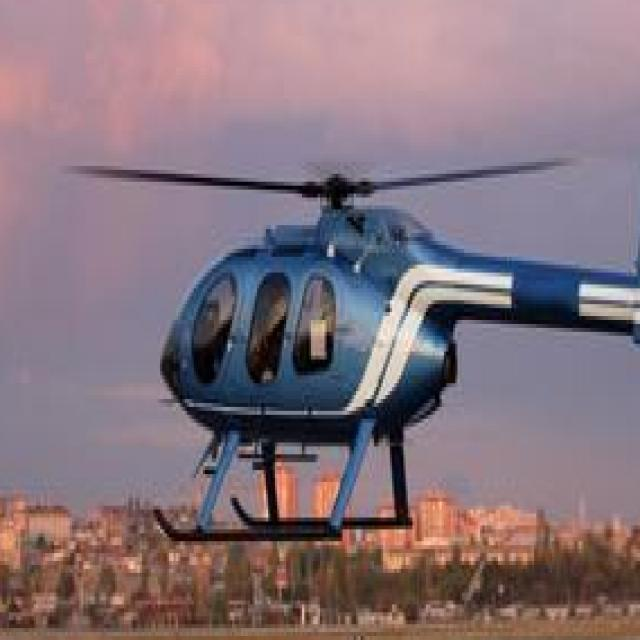helicopter: (84, 76, 640, 562)
